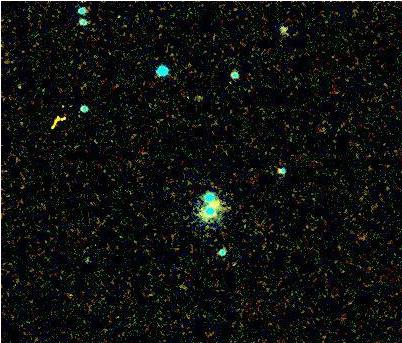star: (203, 188, 233, 218)
